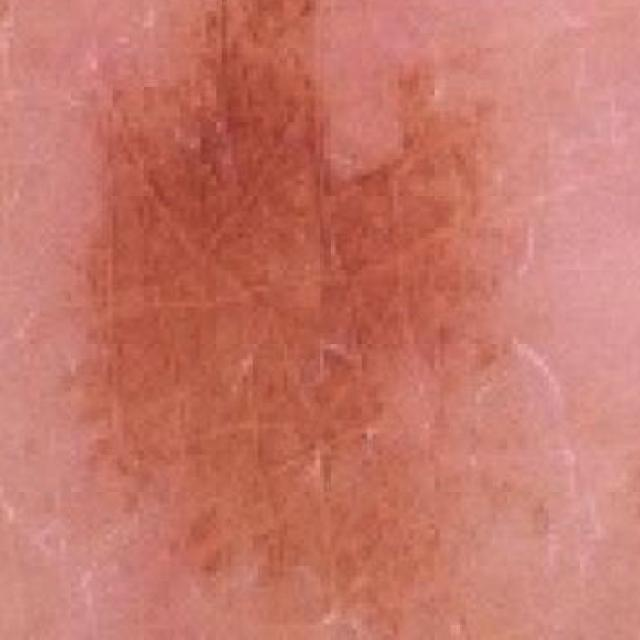BKL: (49, 0, 445, 610)
